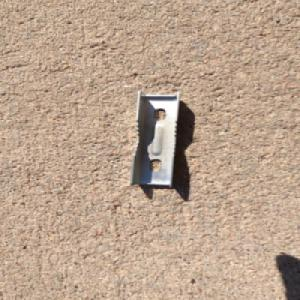ClampPart: (128, 89, 183, 188)
